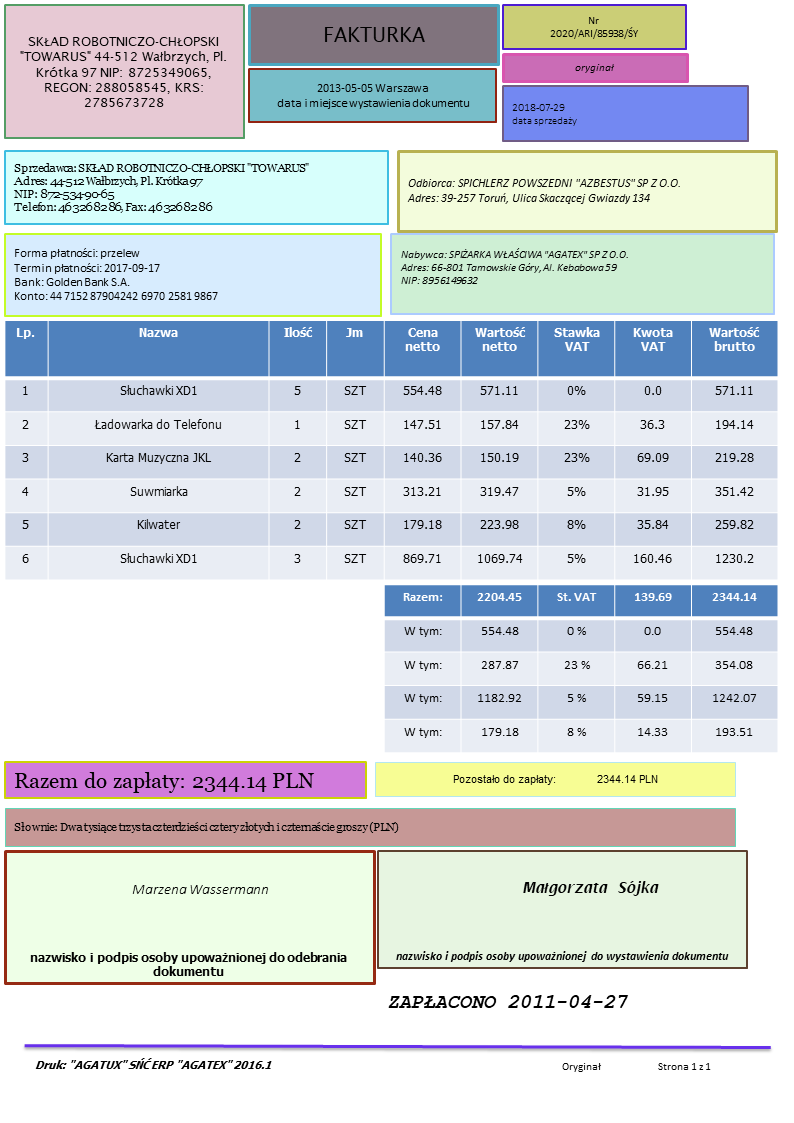Table: (3, 319, 780, 583), (383, 583, 779, 754)
TextBox: (11, 159, 311, 217), (18, 33, 229, 112), (11, 244, 219, 303), (397, 245, 631, 289), (26, 948, 351, 979), (404, 173, 683, 209), (12, 763, 316, 795), (12, 817, 400, 838), (393, 947, 731, 964), (275, 81, 471, 110), (386, 991, 629, 1013), (449, 768, 661, 788), (34, 1055, 274, 1072), (558, 1056, 715, 1076), (520, 876, 660, 897), (548, 11, 641, 42), (128, 879, 272, 899), (320, 22, 429, 46), (510, 99, 578, 129), (572, 59, 616, 76)
